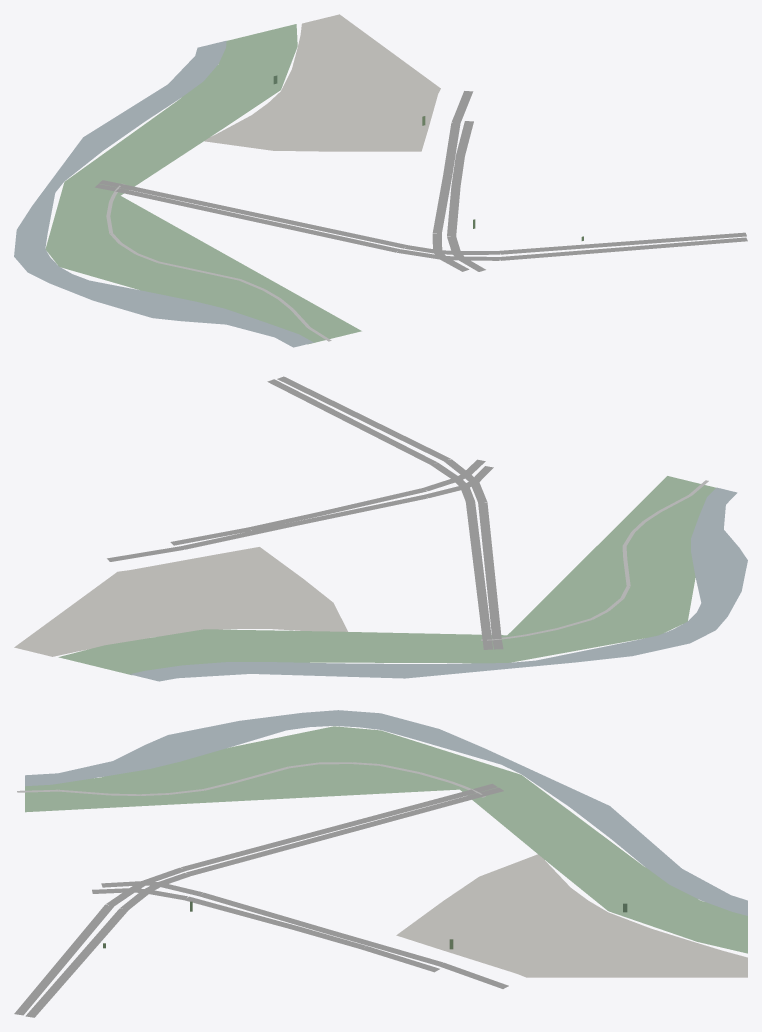
The picture shows the model from 3 angles, top to bottom: view 1: azimuth 30°, elevation 25°; view 2: azimuth 150°, elevation 25°; view 3: azimuth 270°, elevation 25°; orthographic projection. The views are drawn at different scales.
Size of the model in its own units: 504 by 9.55 by 508.
